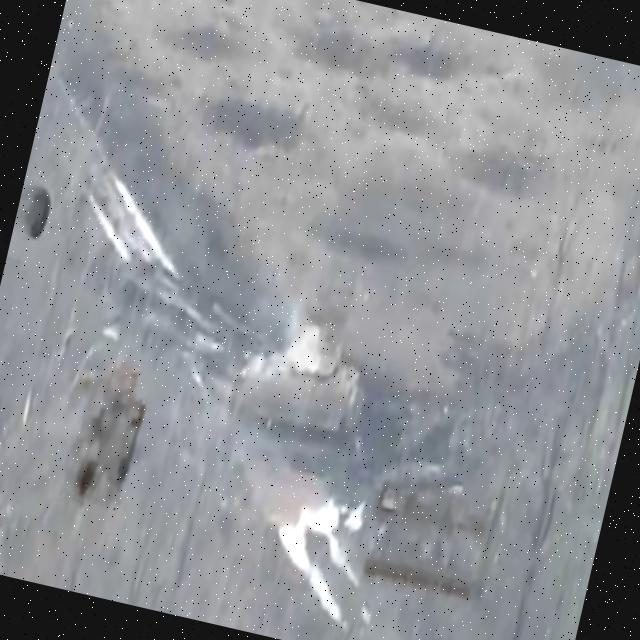AIFV: (229, 308, 378, 444)
